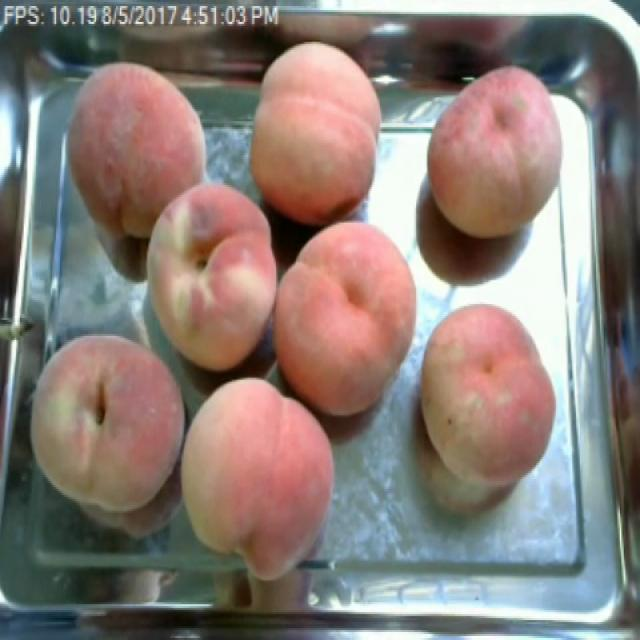Fruit: (167, 368, 348, 592), (16, 322, 199, 521), (272, 209, 431, 429), (55, 52, 220, 252), (416, 50, 577, 252), (408, 292, 568, 495), (129, 173, 279, 382), (240, 30, 393, 230)
